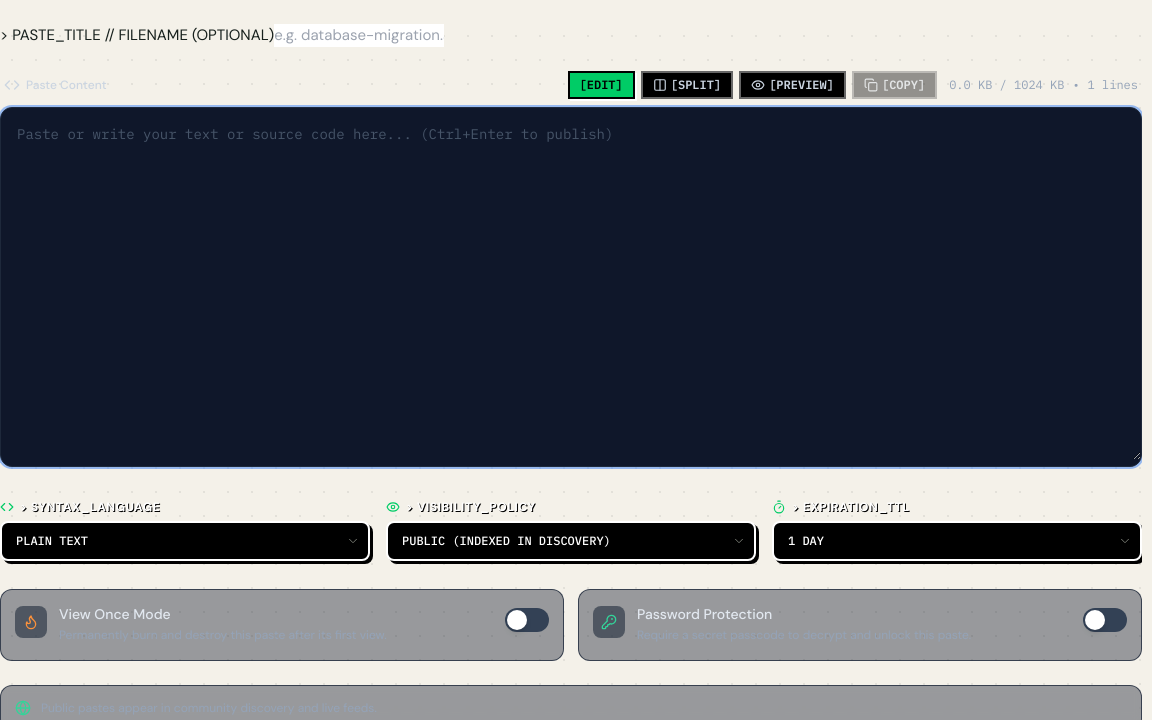
Scenario: CreatePasteForm › blocks submission when password toggle is active but password is empty
Replace the text in the text box with placeholder "Paste or write your text or source code here" with "secret code" at (571, 284), box [1,108,1141,460]
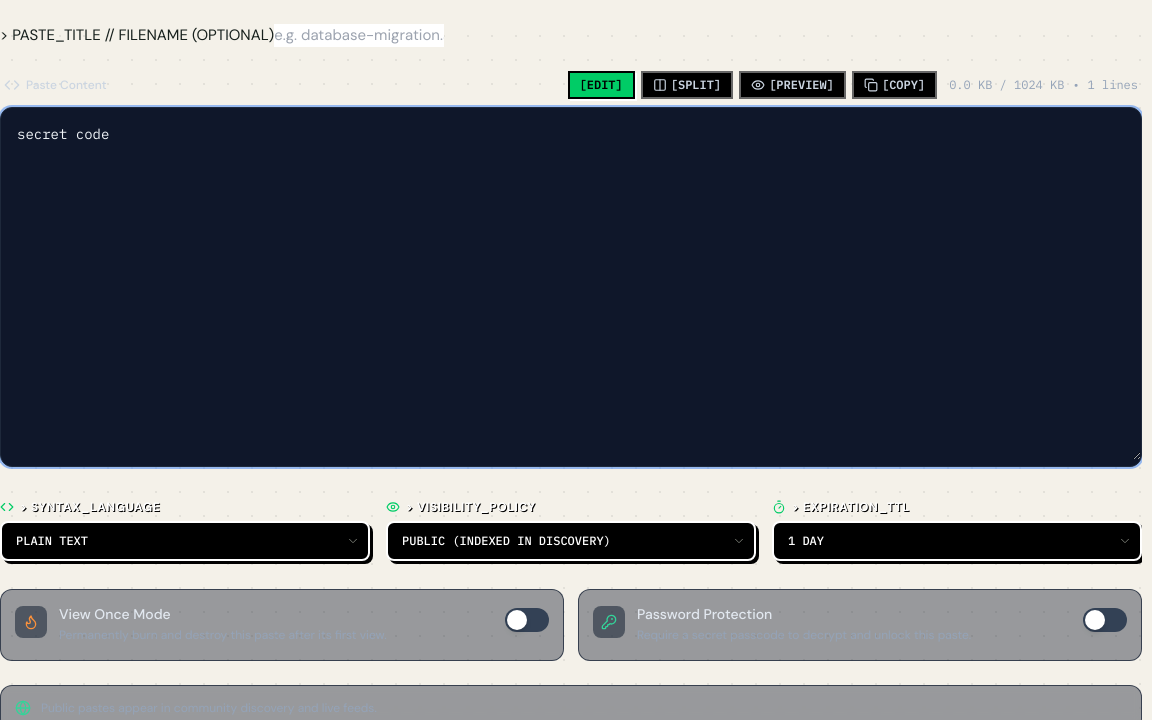
Toggle password protection ON
Click the text "Password Protection" at (705, 614), box [637,605,772,623]
(page scrolled)
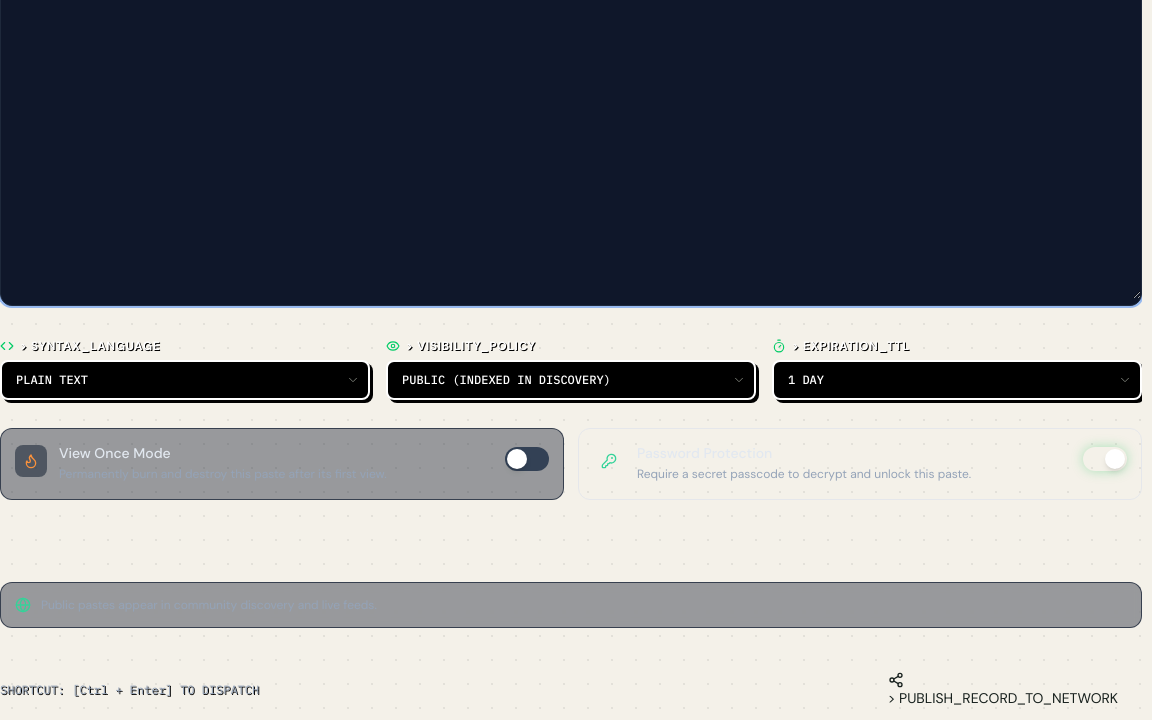
Click submit without entering a password
Click the button "> PUBLISH_RECORD_TO_NETWORK" at (1003, 690), box [864,660,1142,719]
(page scrolled)
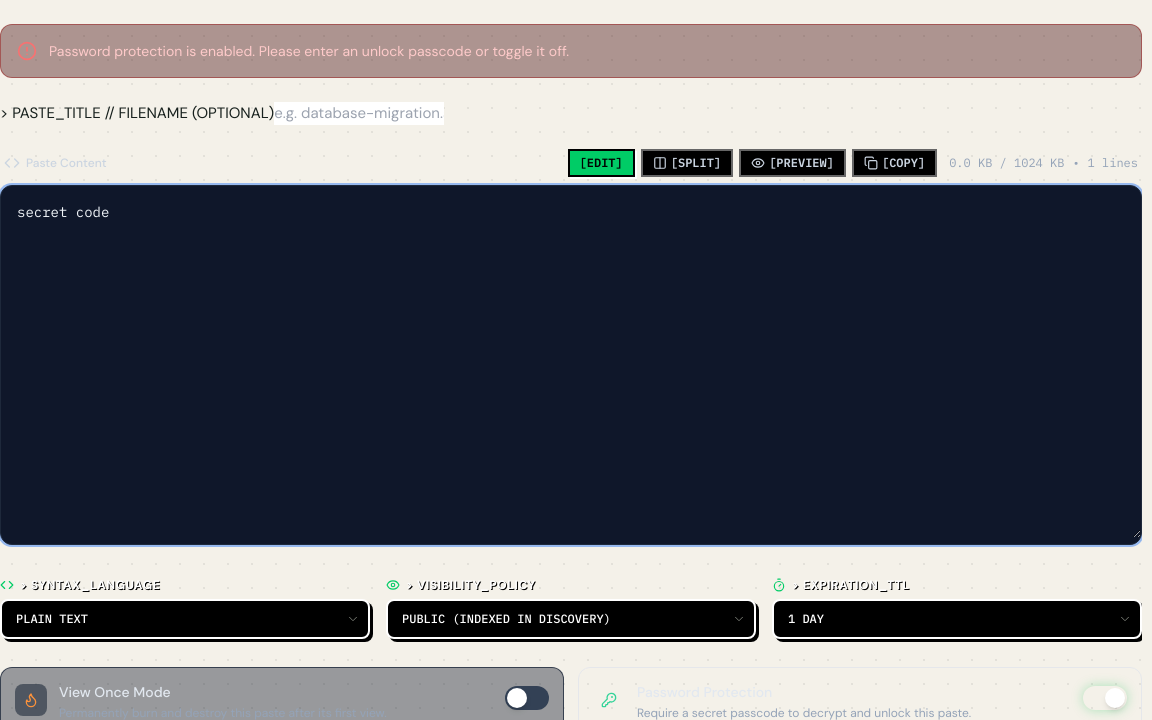
Expected: the text "Password protection is enabled. Please enter an unlock passcode" is shown, [49,42,569,60]
